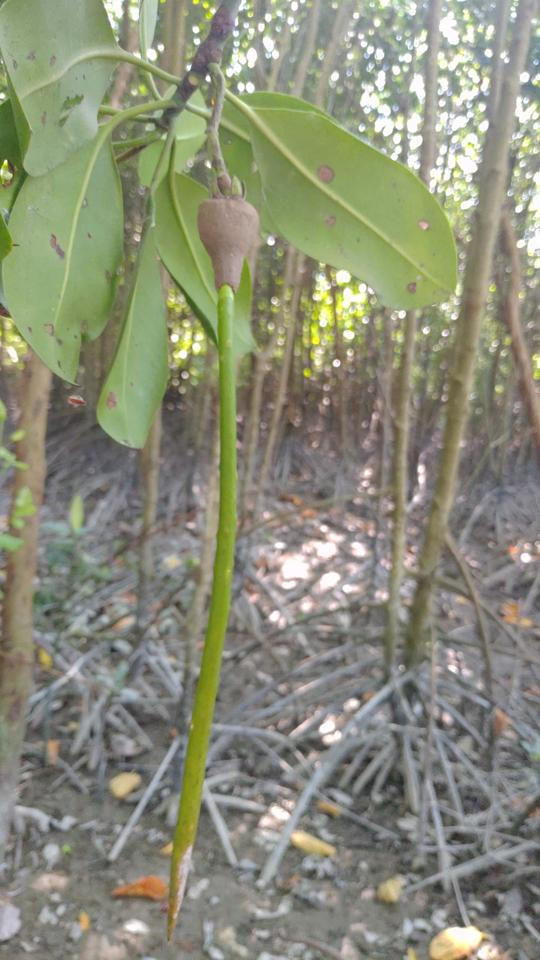setengah matang: (150, 164, 268, 944)
